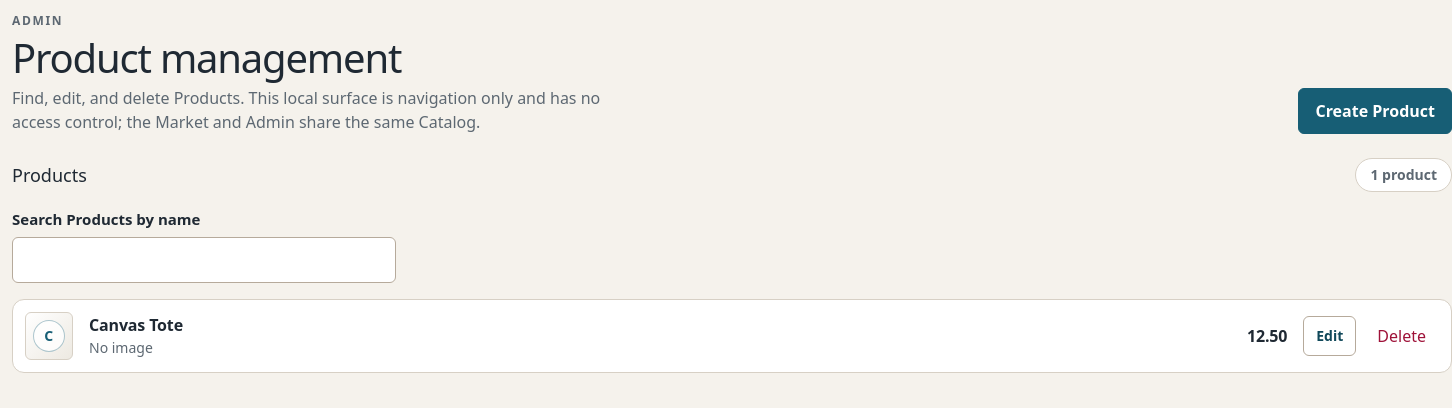
Scenario: AdminProducts › shows a no-match state without presenting an empty Catalog
The width and height of the screenshot is (1452, 408).
Expected: the heading "Canvas Tote" is shown, [89,314,183,336]
Type "zzz" into the search field labelled "Search Products by name" at [204, 260], box [12,236,396,282]
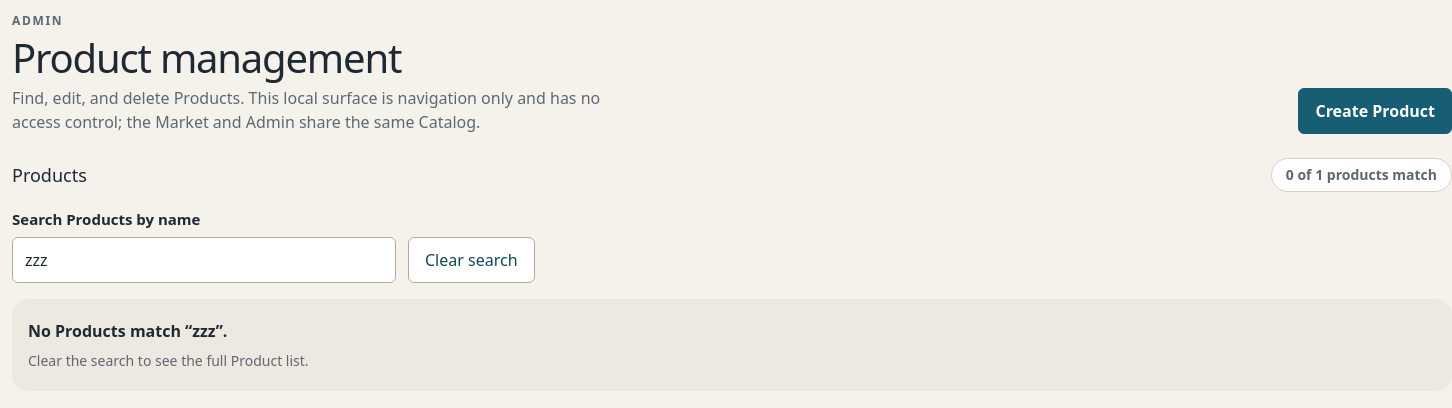
Expected: the text "No Products match “zzz”." is shown, [28,320,227,342]
